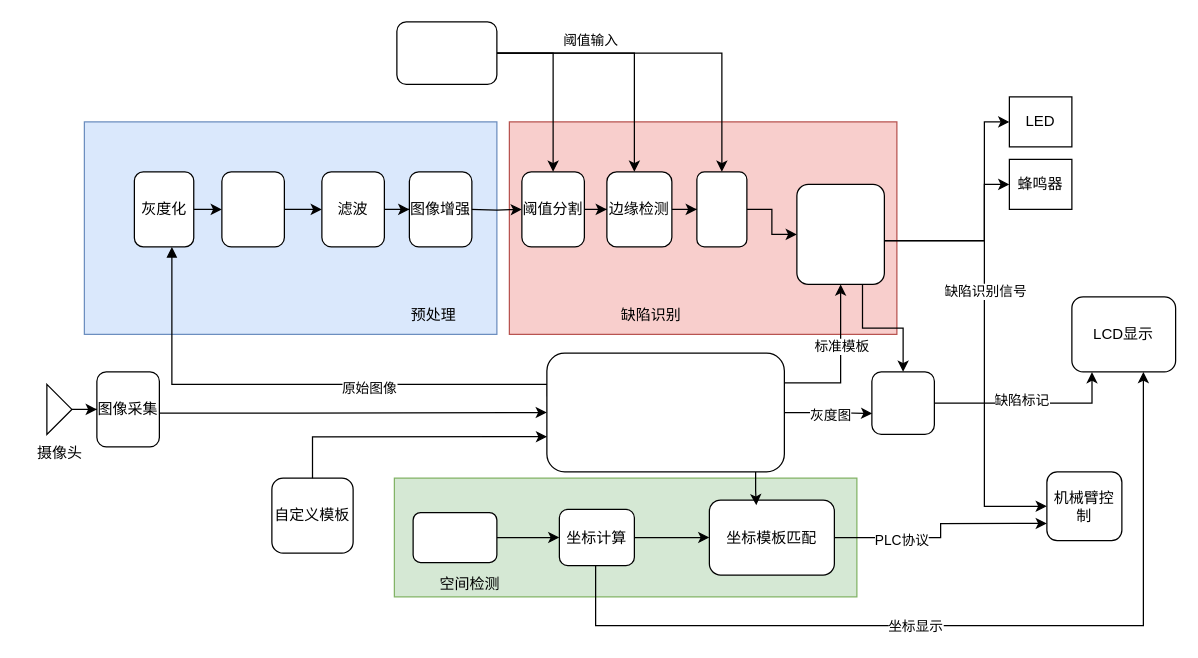
Some shapes in this 1198 by 658 pixel diagram are drawn without their labels. Here are the shapes that lost their labels. From the top down, the centre of each, then its label:
At point (446, 52): "触屏输入".
At point (252, 209): "矩阵生成".
At point (721, 209): "形态学分析".
At point (840, 233): "直方图统计".
At point (665, 412): "DDR内存".
At point (902, 402): "矩形框生成".
At point (454, 536): "传感器".
